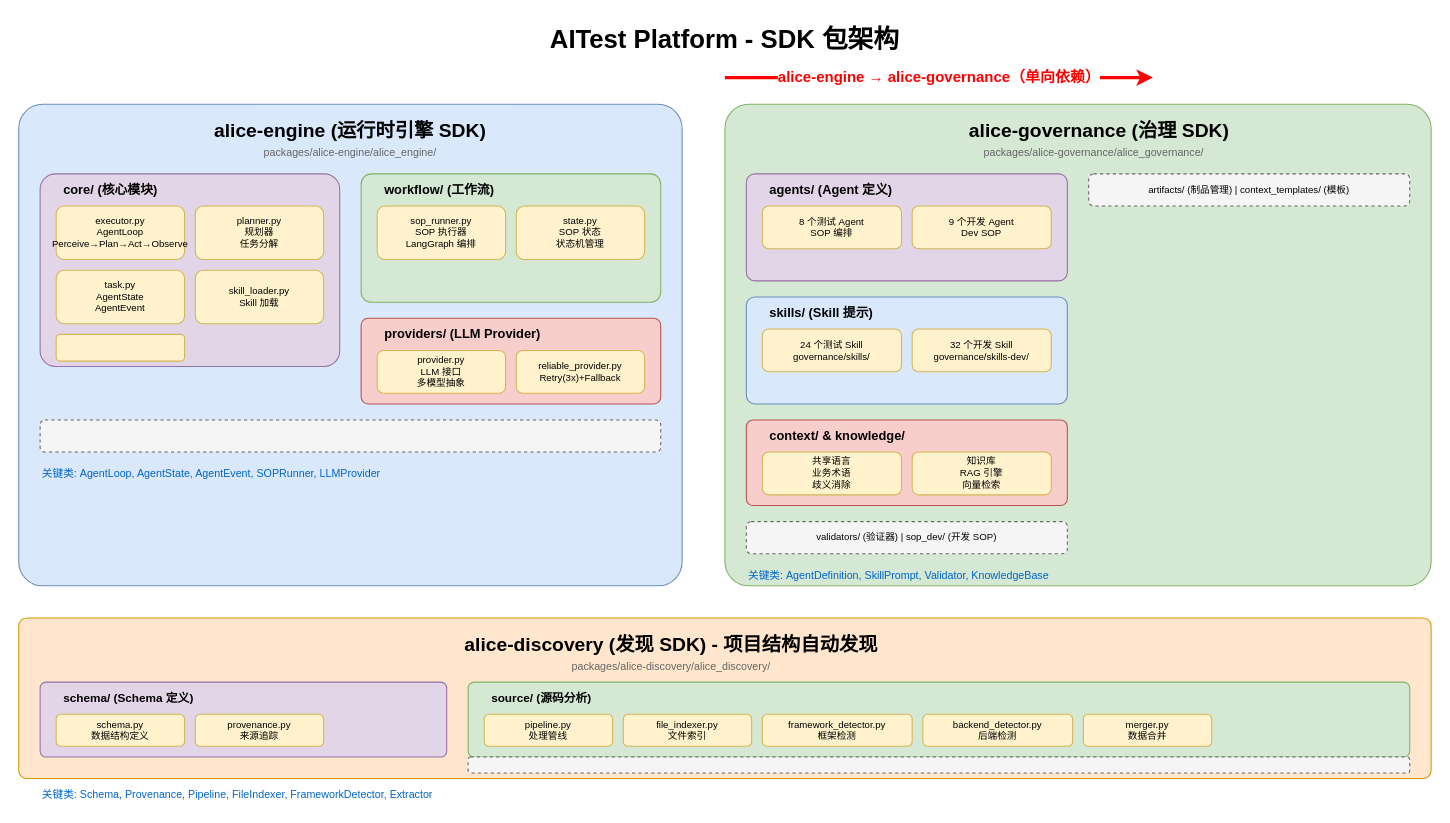
The diagram is 1450 pixels wide and 823 high, and some of its shapes have lost their labels. The shapes that lost their labels are listed below. From the top down, each one's centre as x and y in pixels, then its label:
At point (120, 347): "skill_registry.py Skill 注册".
At point (350, 435): "adapters/ | audit/ | runtime/ | extensions/ | _internal/".
At point (938, 764): "extractors/ (提取器): Vue组件 | Vue路由 | API | 基础类".
